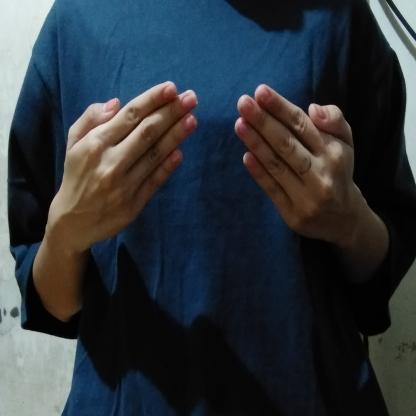night: (51, 76, 377, 260)
